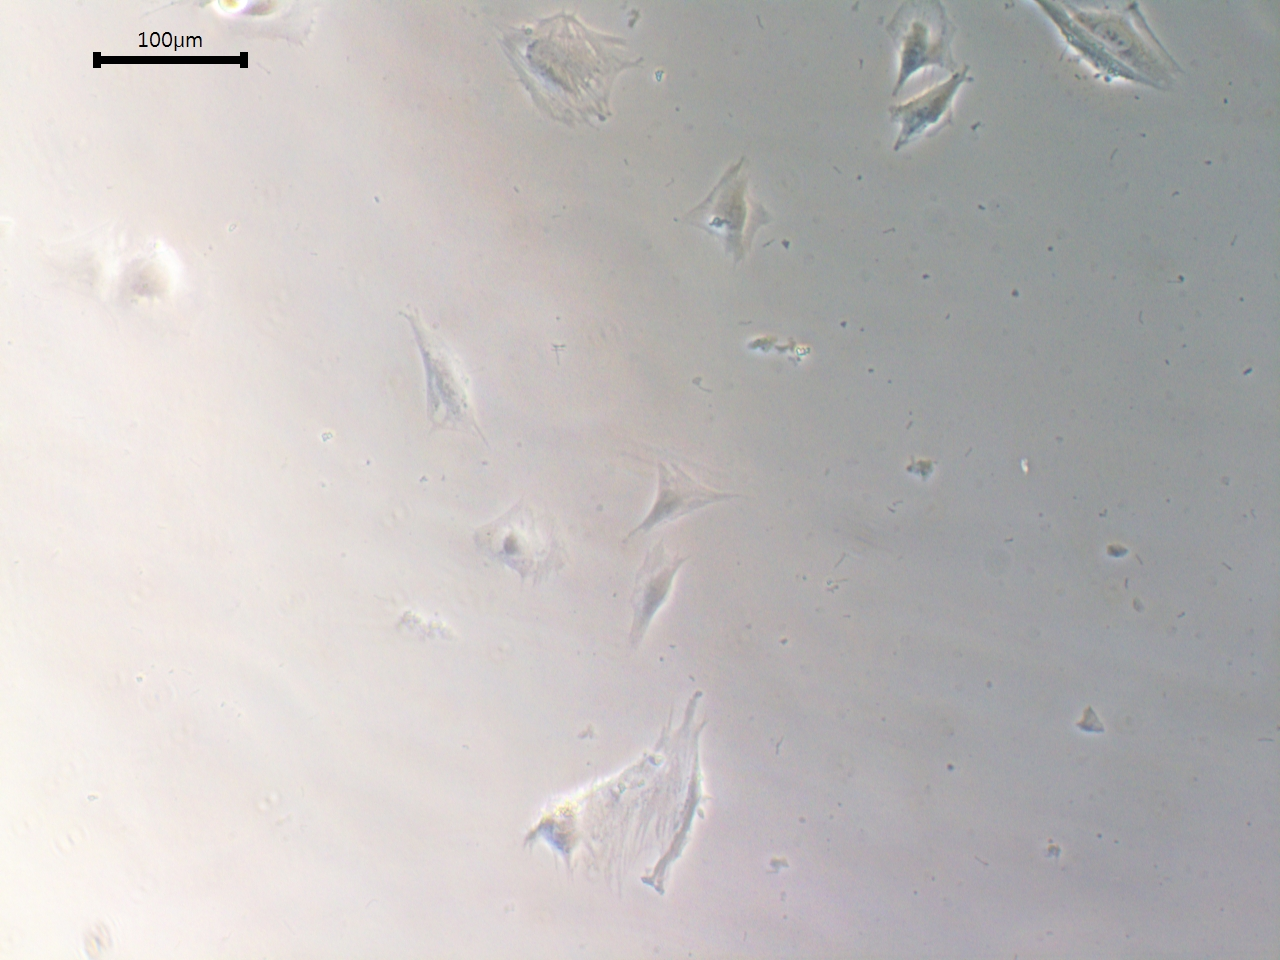medium-polygonal: (399, 299, 498, 462)
medium-spread: (483, 687, 714, 960)
small-polygonal: (638, 150, 804, 287), (615, 452, 760, 556), (625, 543, 697, 668)
